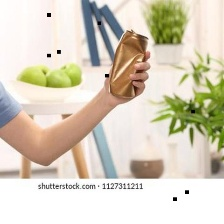can: (107, 28, 151, 102)
